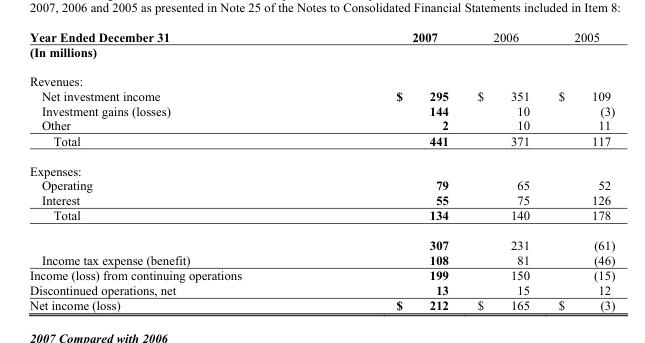table: (28, 29, 614, 312)
table column: (28, 29, 318, 312), (318, 29, 462, 312), (462, 29, 543, 312), (543, 29, 614, 312)
table column header: (28, 29, 614, 44)
table projected row header: (28, 44, 614, 66), (28, 66, 614, 88), (28, 155, 614, 177)
table row: (28, 132, 614, 155), (28, 207, 614, 230), (28, 44, 614, 66), (28, 66, 614, 88), (28, 155, 614, 177), (28, 230, 614, 252), (28, 29, 614, 44), (28, 88, 614, 103), (28, 117, 614, 132), (28, 177, 614, 192), (28, 192, 614, 207), (28, 252, 614, 267), (28, 267, 614, 282), (28, 282, 614, 297), (28, 297, 614, 312), (28, 103, 614, 117)
